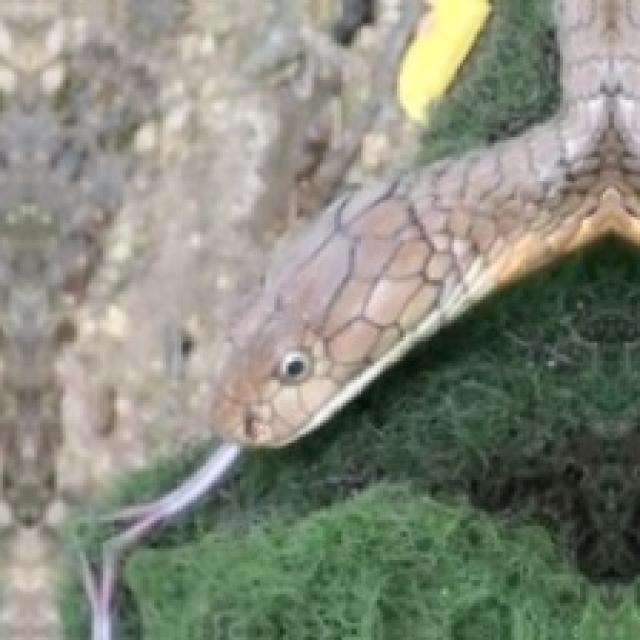king cobra: (209, 0, 637, 443)
